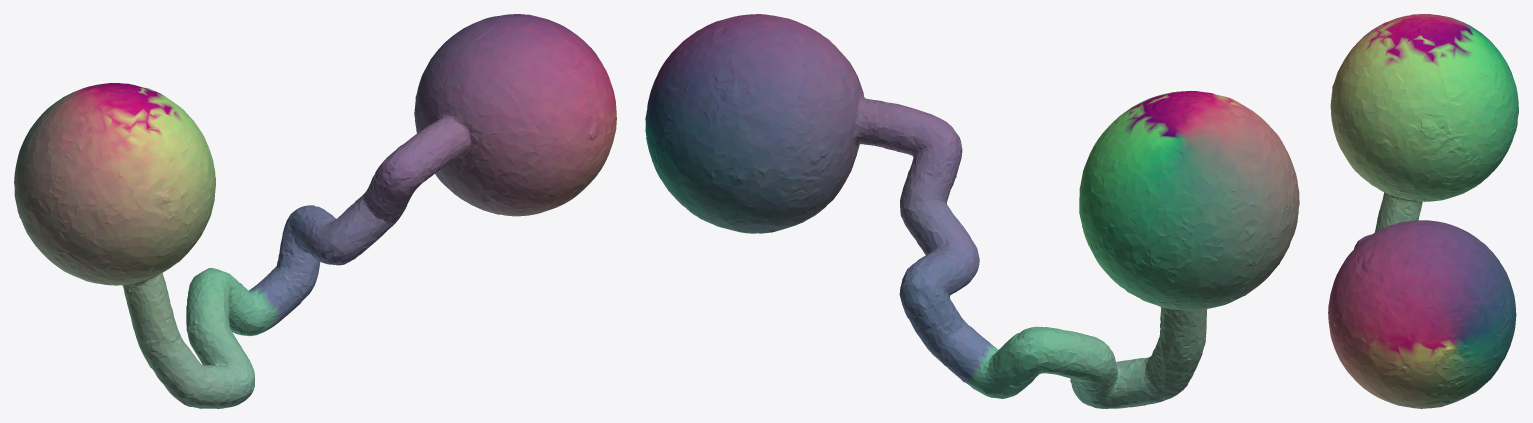
The model's file is twoballs-18.off.obj.
3 renders of one model, left to right at view 1: azimuth 30°, elevation 25°; view 2: azimuth 150°, elevation 25°; view 3: azimuth 270°, elevation 25°, orthographic. The views are drawn at different scales.
Bounding box in the file's own units: 1.74 × 0.9274 × 0.5389.
